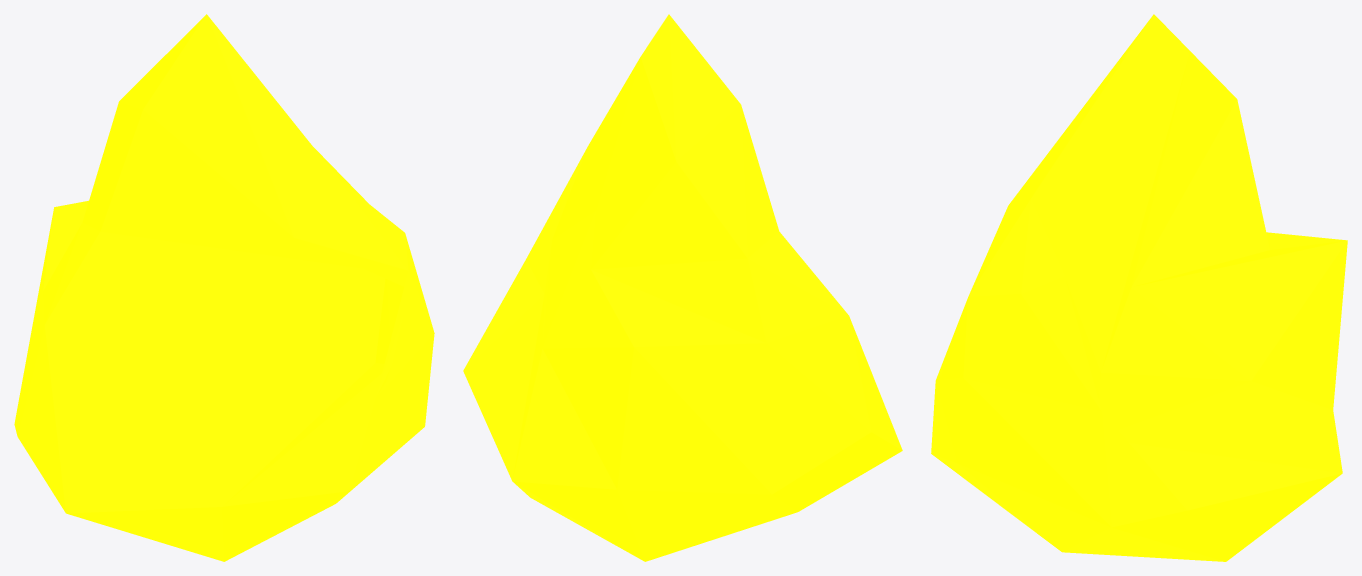
Rendered from lantern-flame.glb.
3 renders of one model, left to right at view 1: azimuth 30°, elevation 25°; view 2: azimuth 150°, elevation 25°; view 3: azimuth 270°, elevation 25°, orthographic. The views are drawn at different scales.
Visible parts, largest first — view 1: fire; view 2: fire; view 3: fire.
Part boxes in pixels (x1,y1,x2,y2): fire: (14, 14, 434, 561); fire: (463, 14, 902, 561); fire: (931, 14, 1347, 561).
Bounding box in the file's own units: 0.2193 × 0.2801 × 0.1982.
